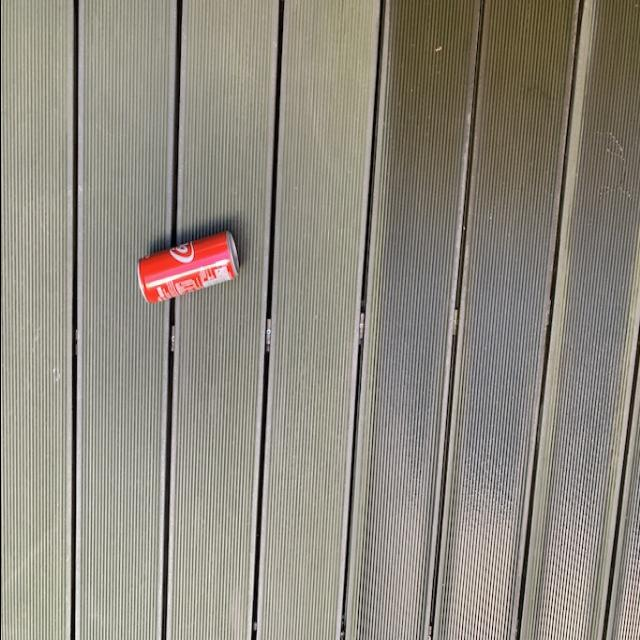Aluminum Can: (134, 229, 239, 305)
